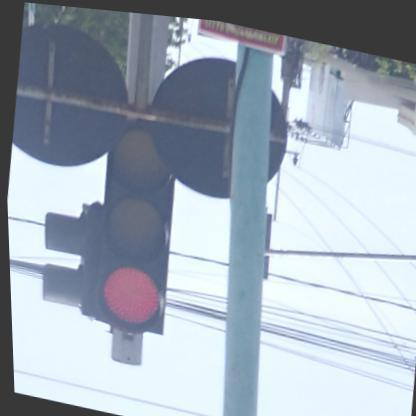red: (86, 112, 184, 336)
